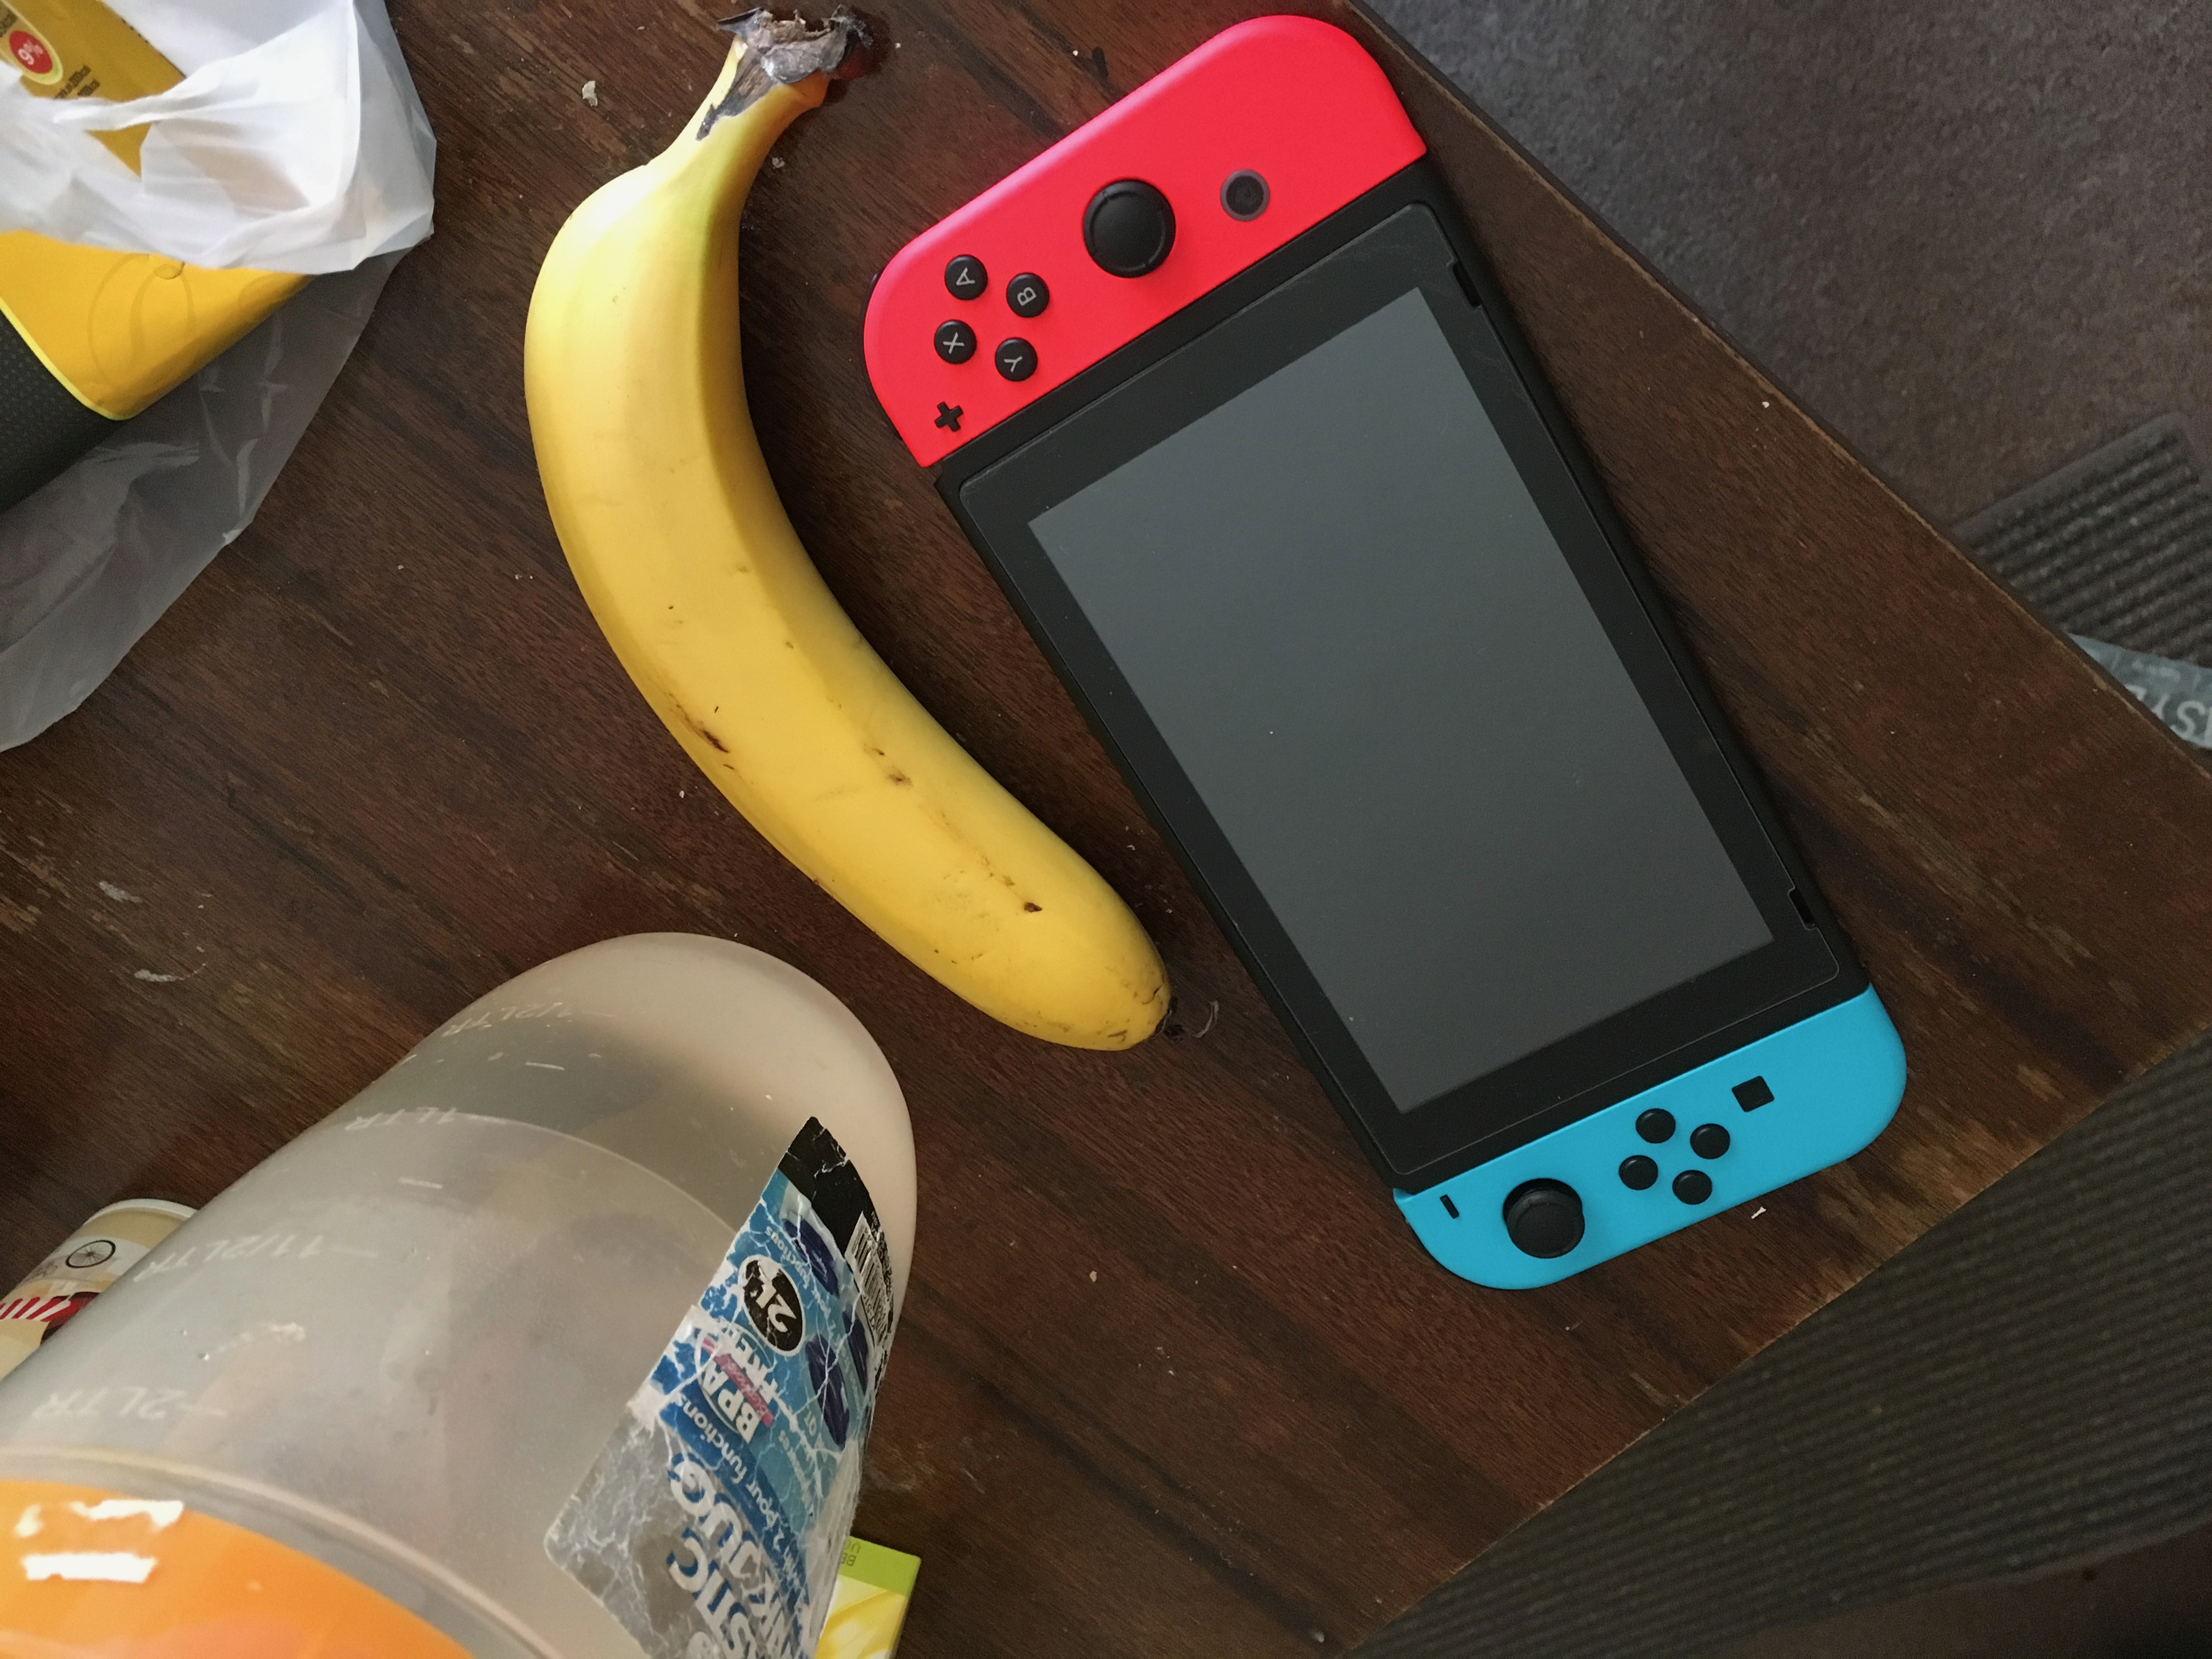NintendoSwitch: (841, 9, 1921, 1310)
